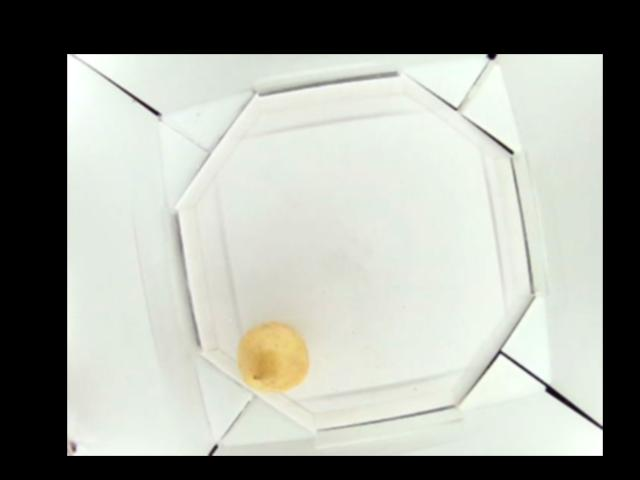Potato: (243, 321, 308, 392)
